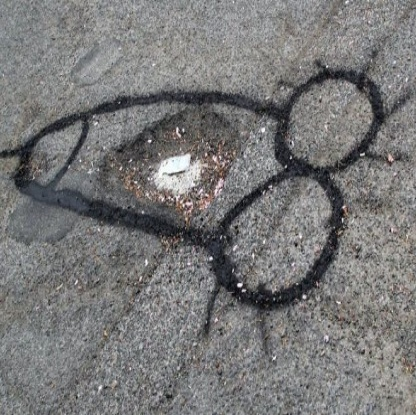pothole: (95, 94, 253, 234)
